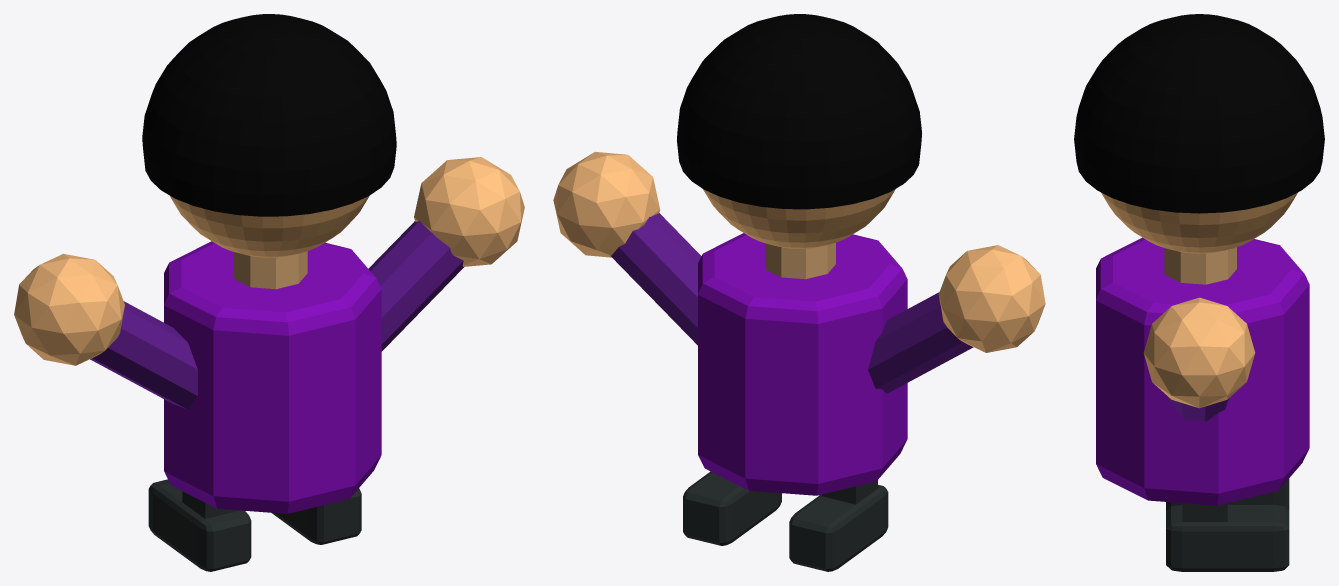
File: manPurple.fbx
3 views of the same model, side by side, from view 1: azimuth 30°, elevation 25°; view 2: azimuth 150°, elevation 25°; view 3: azimuth 270°, elevation 25° (orthographic). The views are drawn at different scales.
Parts seen in each view (by area): view 1: Cylinder, Sphere.001, Icosphere, Cylinder.001, Cube, Sphere, Cylinder.002; view 2: Cylinder, Sphere.001, Icosphere, Cylinder.001, Cube, Sphere, Cylinder.002; view 3: Cylinder, Sphere.001, Icosphere, Cube, Sphere, Cylinder.002, Cylinder.001.
Boxes of the visible parts, left/top/right/bottom form: Cylinder: left=164, top=241, right=381, bottom=513; Sphere.001: left=142, top=14, right=396, bottom=216; Icosphere: left=14, top=157, right=524, bottom=365; Cylinder.001: left=90, top=220, right=463, bottom=409; Cube: left=148, top=479, right=361, bottom=571; Sphere: left=170, top=195, right=369, bottom=257; Cylinder.002: left=233, top=251, right=307, bottom=289; Cylinder: left=698, top=233, right=907, bottom=495; Sphere.001: left=677, top=14, right=921, bottom=209; Icosphere: left=553, top=151, right=1045, bottom=352; Cylinder.001: left=610, top=213, right=973, bottom=393; Cube: left=683, top=471, right=888, bottom=571; Sphere: left=703, top=189, right=895, bottom=248; Cylinder.002: left=765, top=242, right=835, bottom=279; Cylinder: left=1096, top=237, right=1309, bottom=505; Sphere.001: left=1074, top=14, right=1324, bottom=213; Icosphere: left=1143, top=297, right=1255, bottom=408; Cube: left=1166, top=478, right=1289, bottom=571; Sphere: left=1101, top=192, right=1297, bottom=253; Cylinder.002: left=1164, top=247, right=1236, bottom=284; Cylinder.001: left=1167, top=396, right=1228, bottom=421.
Size of the model in its own units: 508 by 511 by 227.
